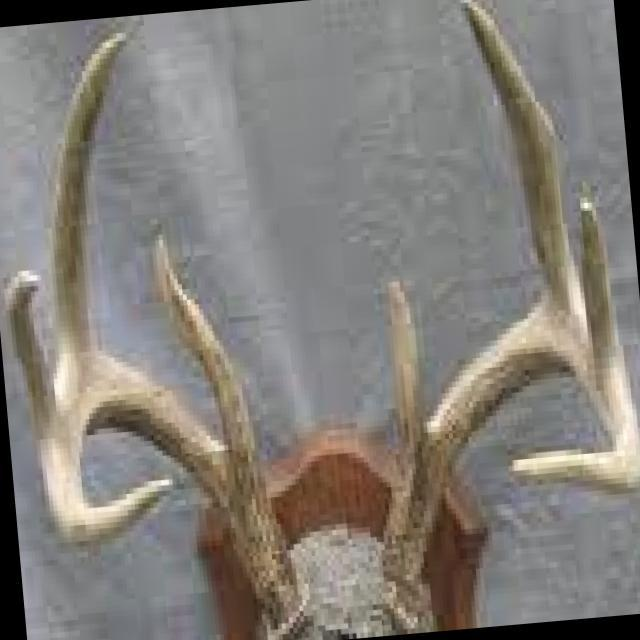L-G1: (384, 274, 426, 455)
L-G2: (458, 0, 586, 334)
L-G3: (576, 195, 625, 364)
L-R: (380, 317, 640, 612)
R-G1: (150, 226, 262, 462)
R-G2: (52, 27, 129, 372)
R-G3: (2, 268, 55, 433)
R-R: (34, 350, 301, 635)
